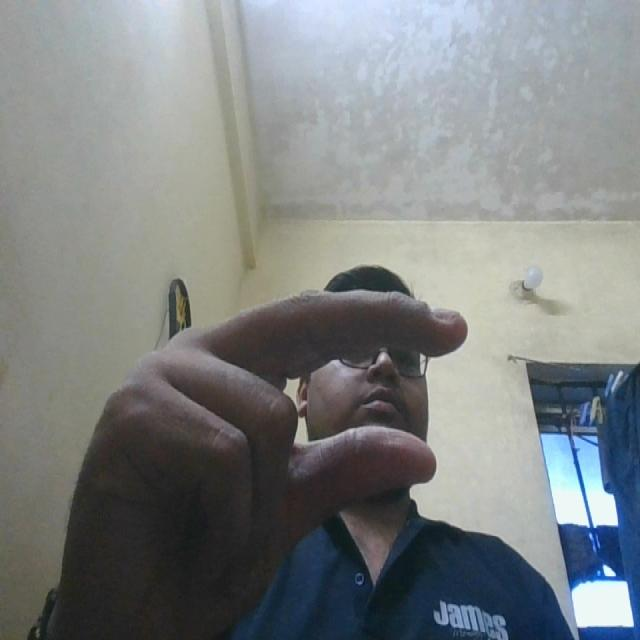No: (54, 255, 474, 589)
